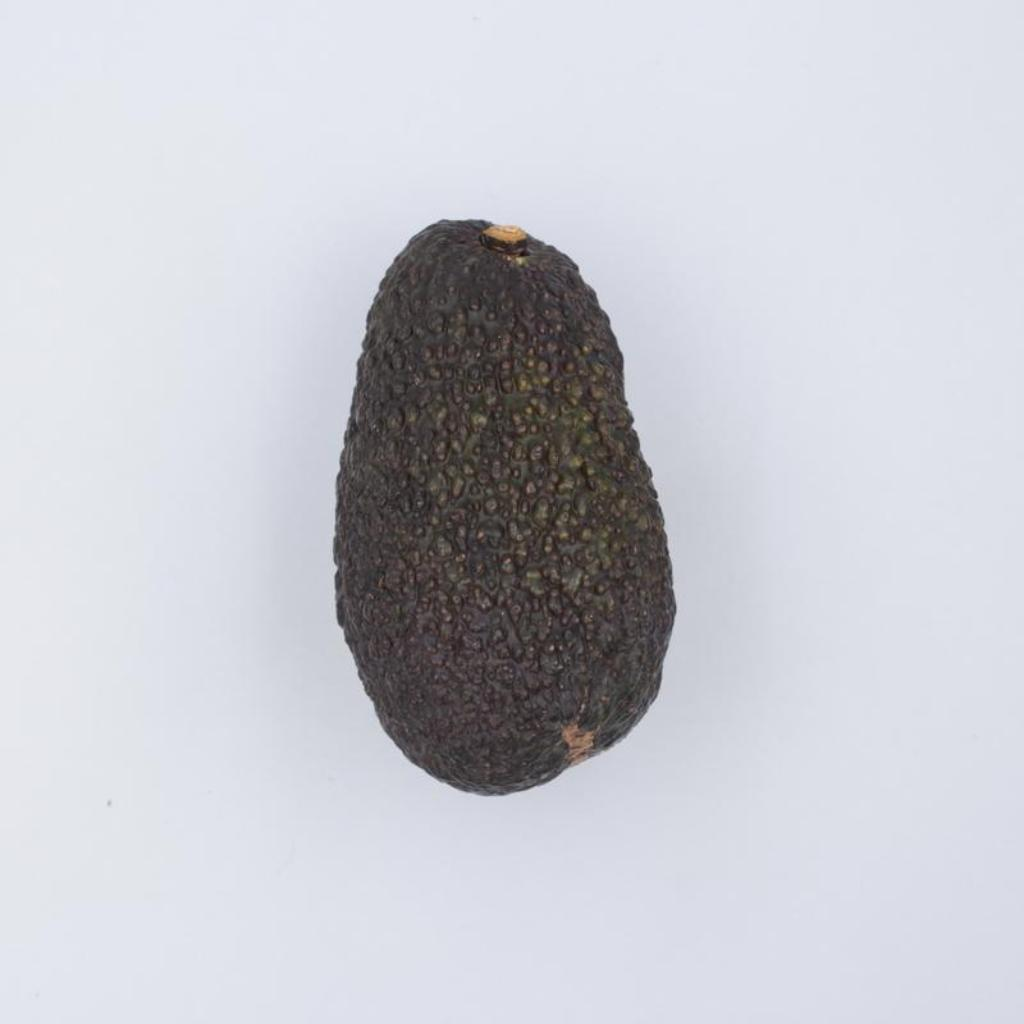scab: (333, 220, 672, 792)
